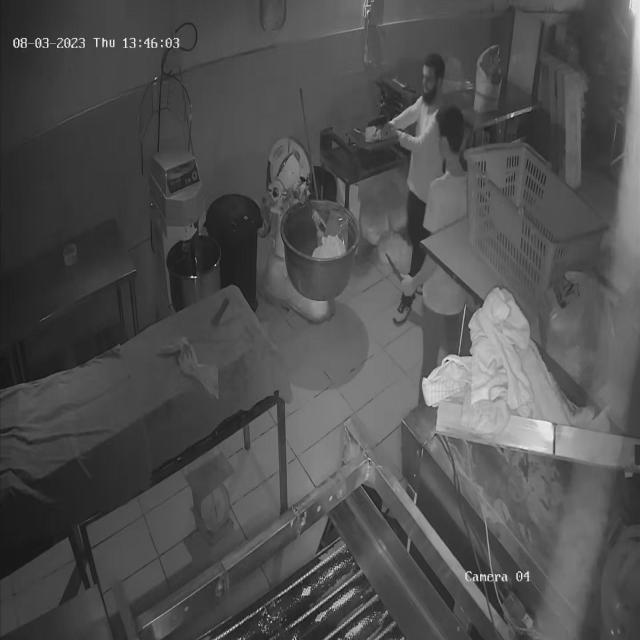Gun: (362, 108, 401, 148)
Knife: (381, 248, 423, 292)
